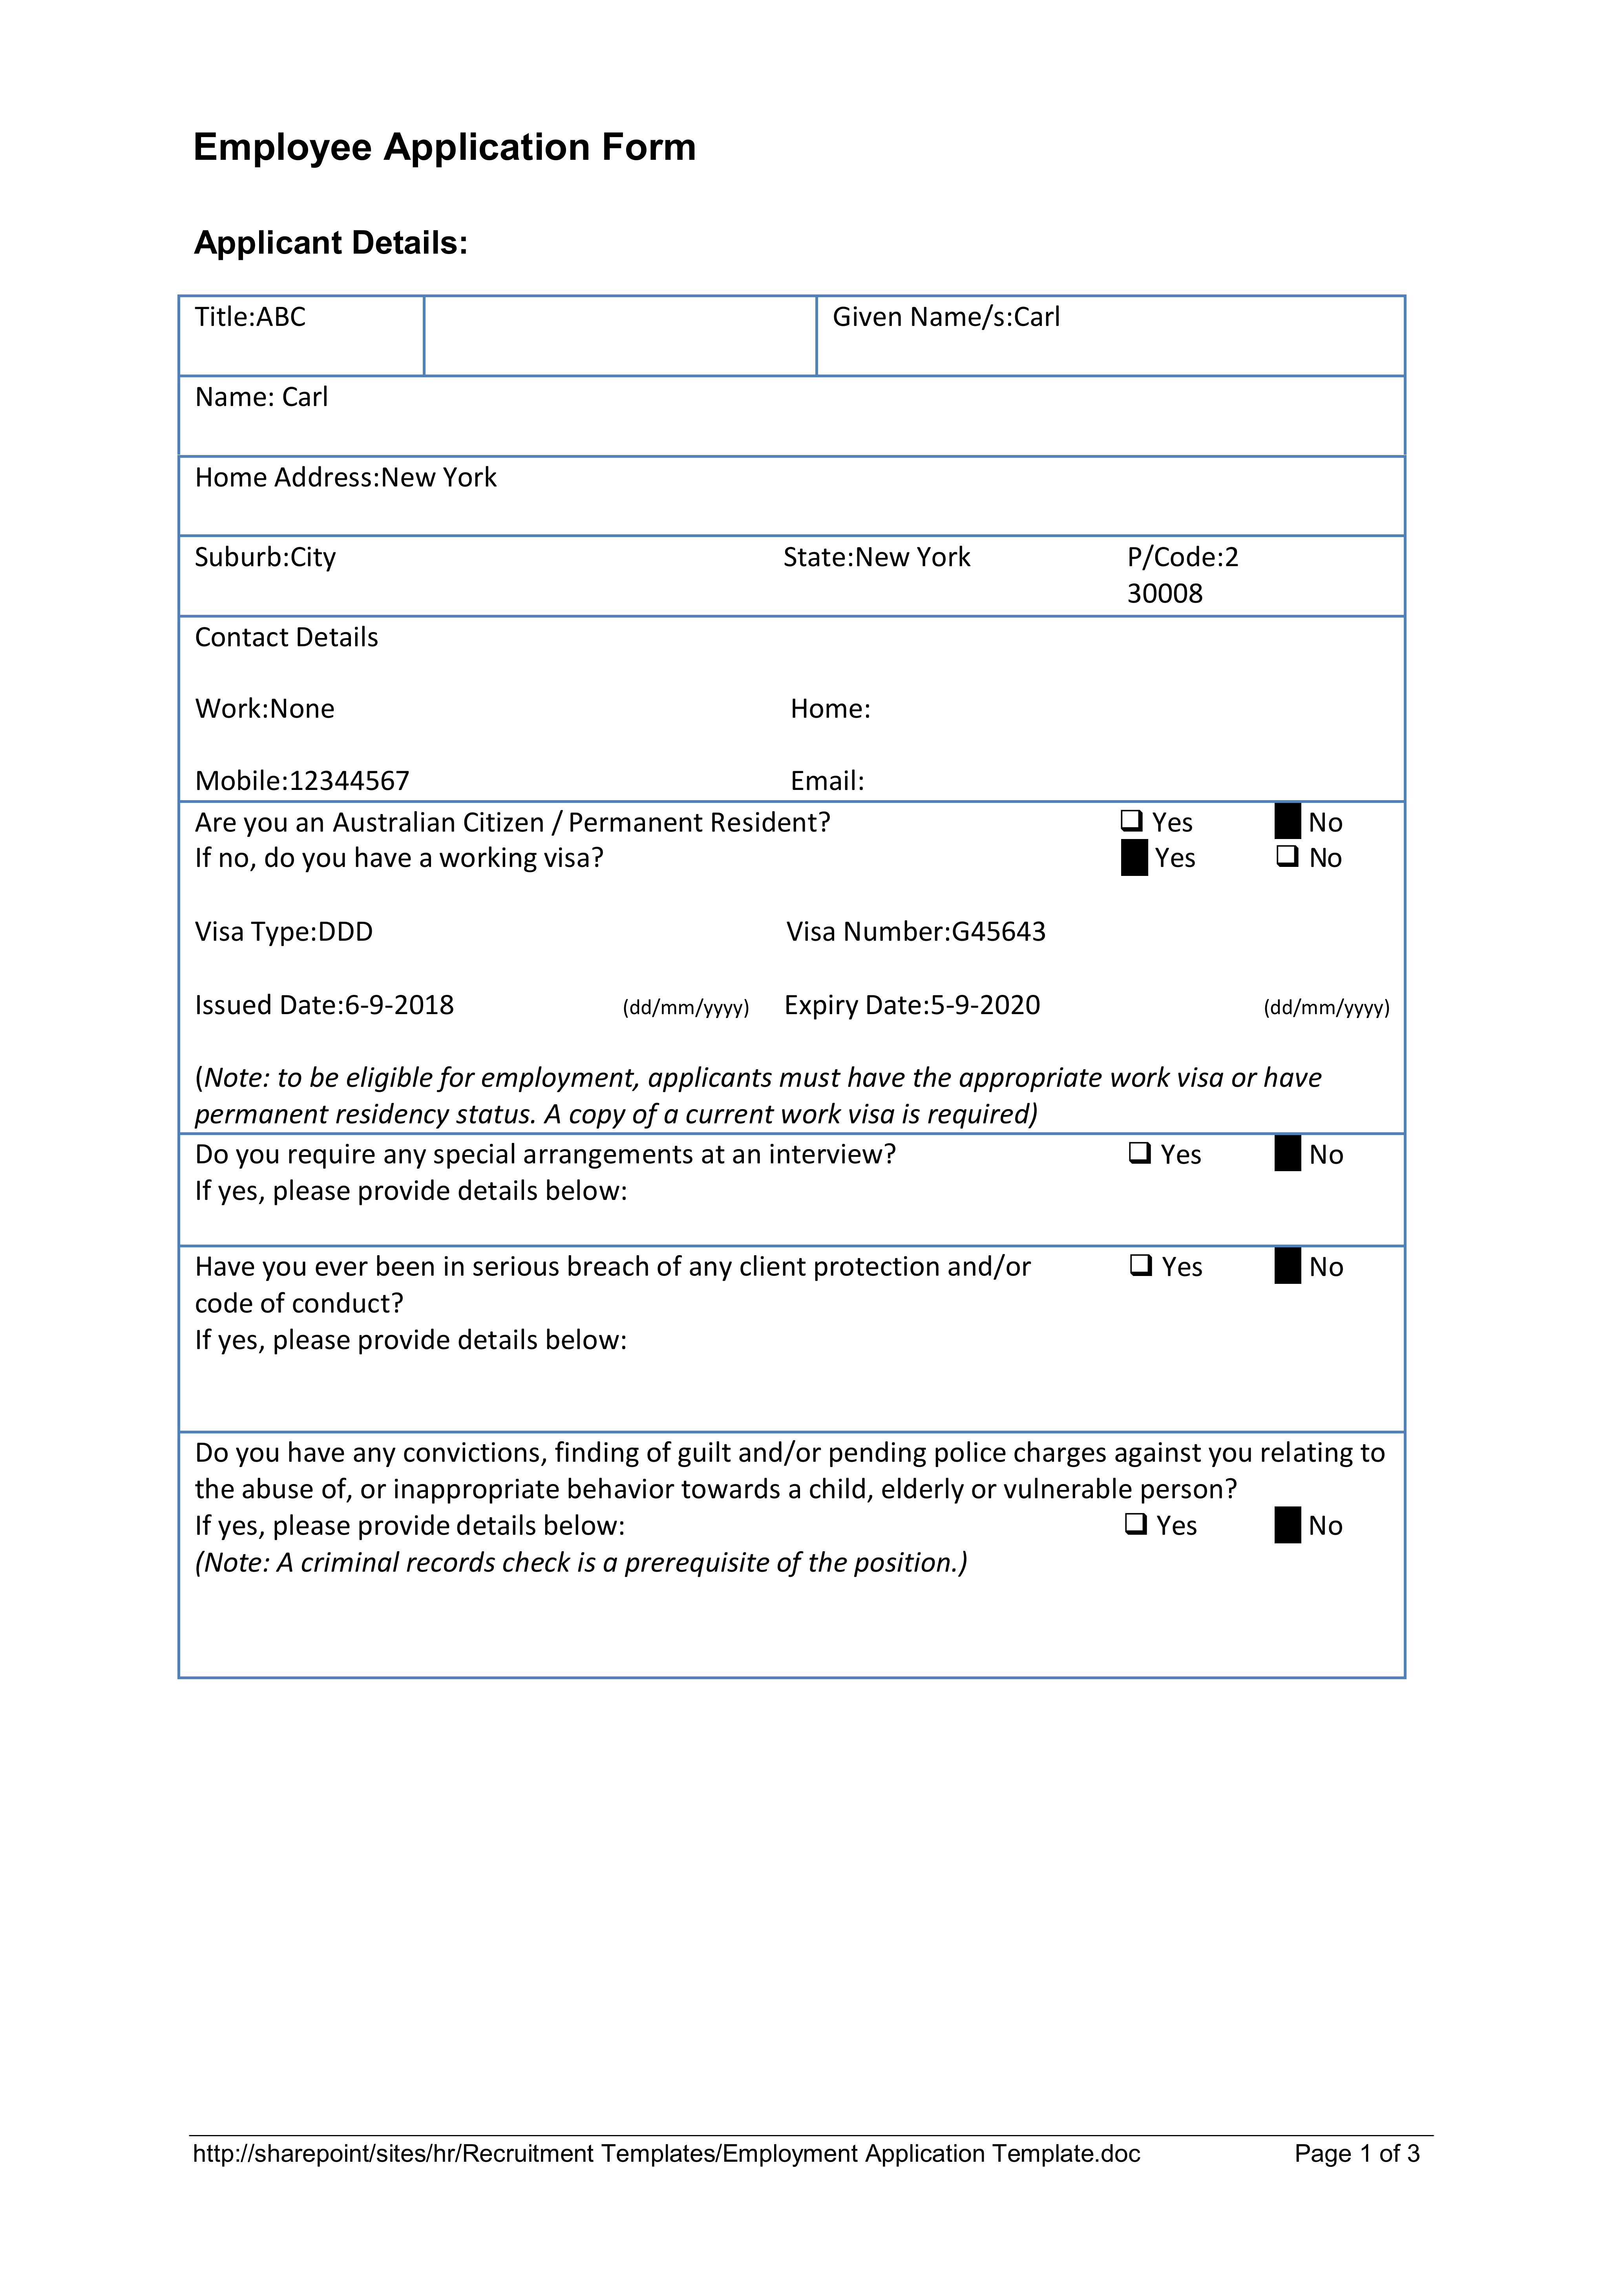table: (178, 299, 1406, 1681)
